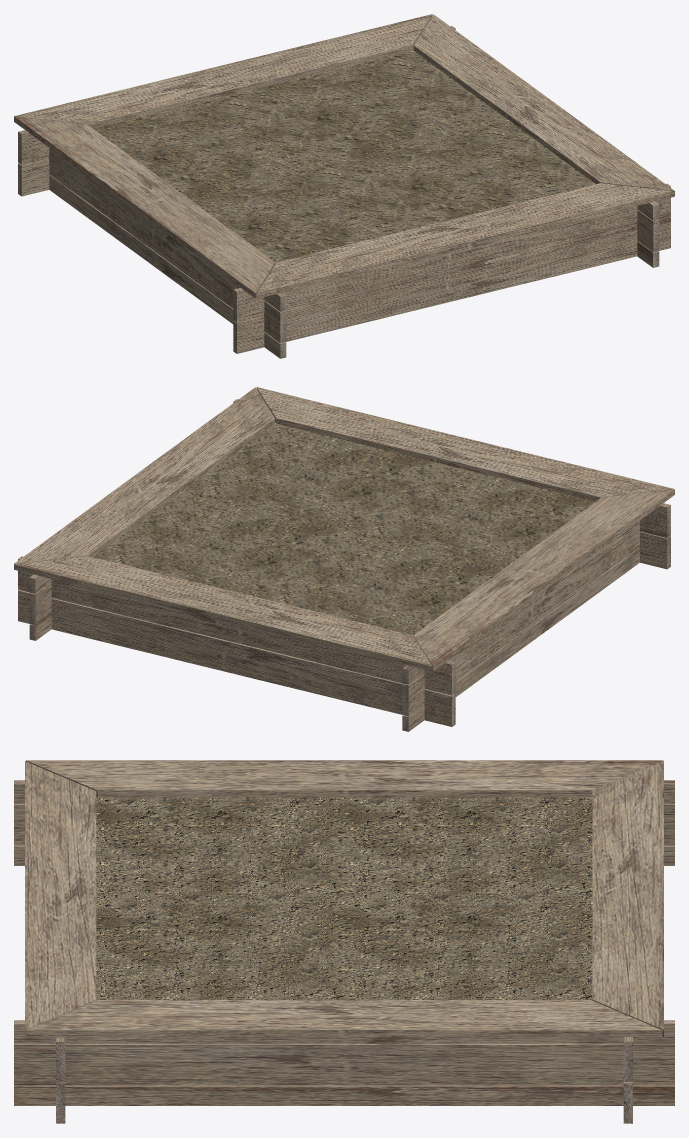
Rendered from planterbed.dae.
3 renders of one model, top to bottom at view 1: azimuth 30°, elevation 25°; view 2: azimuth 150°, elevation 25°; view 3: azimuth 270°, elevation 25°, orthographic. The views are drawn at different scales.
Visible parts, largest first — view 1: dirt, plank_06_Cube_009, top_3_Cube_021, top_1_Cube_016, top_2_Cube_022, top_4_Cube_023, plank_07_Cube_010, plank_04_Cube_006, plank_03_Cube_004, plank_01_Cube_02, plank_02_Cube_03, plank_09_Cube_013; view 2: dirt, plank_01_Cube_02, top_1_Cube_016, top_3_Cube_021, top_2_Cube_022, top_4_Cube_023, plank_02_Cube_03, plank_04_Cube_006, plank_03_Cube_004, plank_06_Cube_009, plank_07_Cube_010, plank_09_Cube_013; view 3: dirt, plank_09_Cube_013, top_4_Cube_023, top_2_Cube_022, top_1_Cube_016, top_3_Cube_021, plank_08_Cube_011, plank_10_Cube_014, plank_04_Cube_006.
Boxes of the visible parts, <box> form: dirt: <box>93,49,595,263</box>; plank_06_Cube_009: <box>233,217,670,353</box>; top_3_Cube_021: <box>257,183,674,298</box>; top_1_Cube_016: <box>14,14,432,128</box>; top_2_Cube_022: <box>14,116,275,298</box>; top_4_Cube_023: <box>414,14,674,195</box>; plank_07_Cube_010: <box>233,183,670,322</box>; plank_04_Cube_006: <box>48,148,286,343</box>; plank_03_Cube_004: <box>49,175,286,358</box>; plank_01_Cube_02: <box>18,158,49,196</box>; plank_02_Cube_03: <box>18,26,455,164</box>; plank_09_Cube_013: <box>637,210,659,252</box>; dirt: <box>93,422,595,635</box>; plank_01_Cube_02: <box>18,590,455,726</box>; top_1_Cube_016: <box>14,556,432,671</box>; top_3_Cube_021: <box>256,387,674,501</box>; top_2_Cube_022: <box>413,489,674,671</box>; top_4_Cube_023: <box>14,387,274,564</box>; plank_02_Cube_03: <box>18,556,455,695</box>; plank_04_Cube_006: <box>402,521,640,716</box>; plank_03_Cube_004: <box>402,548,639,731</box>; plank_06_Cube_009: <box>639,531,670,569</box>; plank_07_Cube_010: <box>233,399,670,537</box>; plank_09_Cube_013: <box>29,583,52,625</box>; dirt: <box>96,797,592,1000</box>; plank_09_Cube_013: <box>14,1043,674,1085</box>; top_4_Cube_023: <box>26,1000,662,1037</box>; top_2_Cube_022: <box>26,760,663,797</box>; top_1_Cube_016: <box>592,761,663,1036</box>; top_3_Cube_021: <box>25,761,96,1036</box>; plank_08_Cube_011: <box>14,1085,674,1105</box>; plank_10_Cube_014: <box>14,1020,674,1043</box>; plank_04_Cube_006: <box>14,804,674,845</box>.
Size of the model in its own units: 3.68 by 0.5455 by 3.68.
2 materials, 2 textured.
